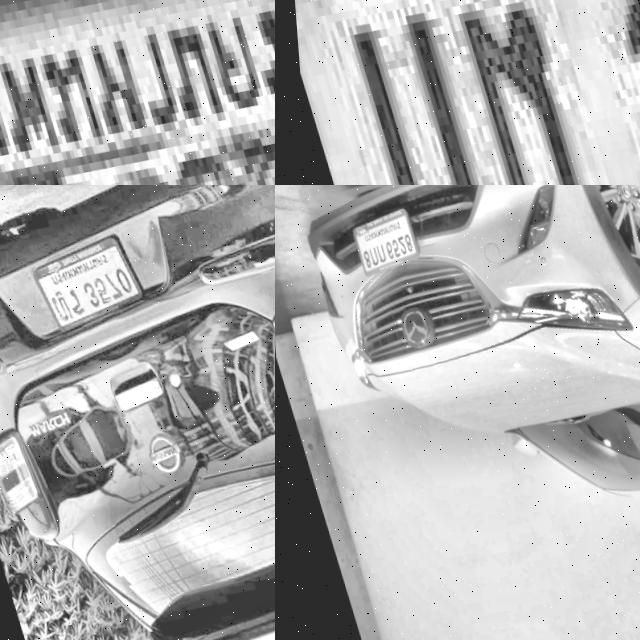license-plate: (275, 0, 640, 185), (0, 0, 275, 185), (16, 224, 153, 347), (344, 205, 422, 278)
